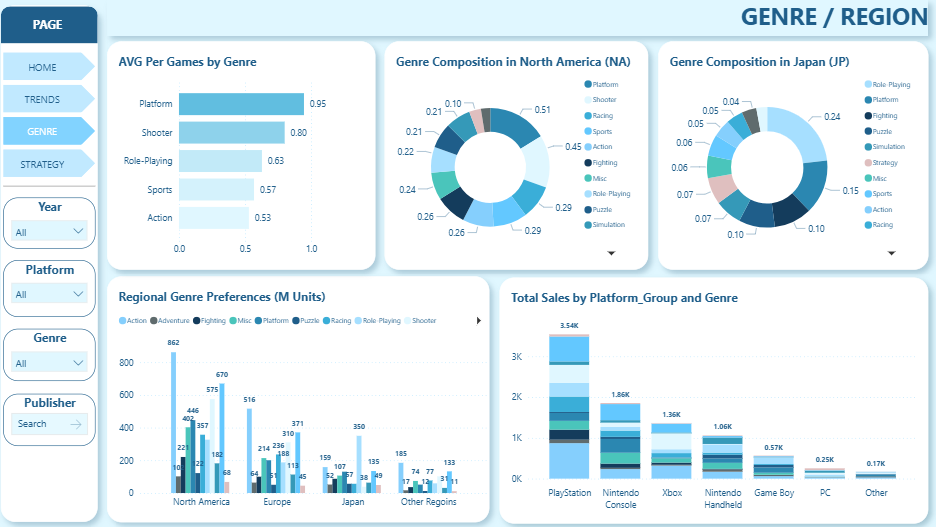

What the dashboard file says about the page in this screenshot:
{"tool":"powerbi","page":{"name":"GENRE","canvas":[1280,720],"ordinal":2},"visuals":[{"type":"shape","box":[5.5,6.9,132,703.9],"z":0},{"type":"textbox","box":[149.2,0,1118.6,49.2],"z":1000},{"type":"donutChart","title":"Genre Composition in North America (NA)","fields":{"Category":["Data_Cleaned.Genre"],"Y":["Massue.AVG Per Games"],"Series":["Data_Cleaned.Region"]},"box":[527.7,56.2,359.1,311.5],"z":2000},{"type":"textbox","box":[37.4,18.7,100.4,32.3],"z":3000},{"type":"clusteredColumnChart","title":"Regional Genre Preferences (M Units)","fields":{"Category":["Data_Cleaned.Region"],"Y":["Massue.Total Sales"],"Series":["Data_Cleaned.Genre"]},"box":[149.8,376.2,520.9,335.3],"z":4000},{"type":"donutChart","title":"Genre Composition in Japan (JP)","fields":{"Category":["Data_Cleaned.Genre"],"Y":["Massue.AVG Per Games"],"Series":["Data_Cleaned.Region"]},"box":[900.4,56.2,367.7,311.5],"z":5000},{"type":"shape","box":[5.1,8.5,132.2,50.8],"z":7000},{"type":"slicer","title":"Genre","fields":{"Values":["Data_Cleaned.Genre"]},"box":[8.5,447.5,125.4,71.2],"z":8000},{"type":"slicer","title":"Platform","fields":{"Values":["Data_Cleaned.Publisher"]},"box":[8.5,354.2,125.4,78],"z":9000},{"type":"slicer","title":"Year","fields":{"Values":["Data_Cleaned.Year"]},"box":[8.5,269.5,125.4,69.5],"z":10000},{"type":"textSlicer","title":"Publisher","fields":{"Values":["Data_Cleaned.Publisher"]},"box":[8.5,535.6,125.4,71.2],"z":11000},{"type":"pageNavigator","box":[9,55.9,125.4,186.4],"z":12000},{"type":"shape","box":[9,242.4,125.4,23.7],"z":13000},{"type":"textbox","box":[18.6,22,100,32.2],"z":14000},{"type":"columnChart","fields":{"Category":["Data_Cleaned.Platform_Group"],"Series":["Data_Cleaned.Genre"],"Y":["Massue.Total Sales"]},"box":[684.3,377.9,583.8,335.3],"z":14001},{"type":"barChart","fields":{"Category":["Data_Cleaned.Genre"],"Y":["Massue.AVG Per Games"]},"box":[149.8,56.2,366,311.5],"z":14002}]}

Visuals, with their boxes in screenshot pixels (x1, y1, x2, y2), scaled from the page's 1280x720 canvas onto the 936x527 screenshot:
shape: 4,5,101,520
textbox: 109,0,927,36
"Genre Composition in North America (NA)" donutChart: 386,41,648,269
textbox: 27,14,101,37
"Regional Genre Preferences (M Units)" clusteredColumnChart: 110,275,490,521
"Genre Composition in Japan (JP)" donutChart: 658,41,927,269
shape: 4,6,100,43
"Genre" slicer: 6,328,98,380
"Platform" slicer: 6,259,98,316
"Year" slicer: 6,197,98,248
"Publisher" textSlicer: 6,392,98,444
pageNavigator: 7,41,98,177
shape: 7,177,98,195
textbox: 14,16,87,40
columnChart - Data_Cleaned.Platform_Group x Data_Cleaned.Genre: 500,277,927,522
barChart - Data_Cleaned.Genre x Massue.AVG Per Games: 110,41,377,269
